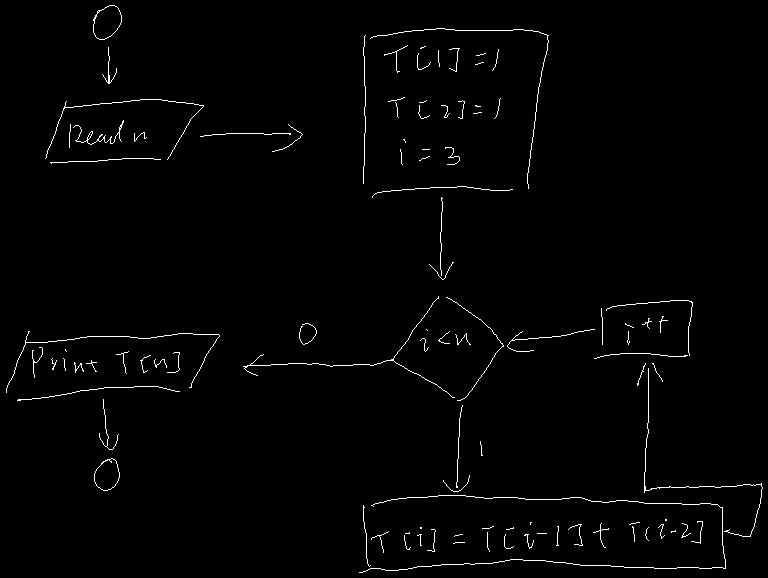arrow: (637, 363, 762, 536), (243, 354, 392, 375), (200, 124, 302, 151), (443, 405, 469, 491), (429, 197, 453, 279), (507, 329, 594, 351), (99, 399, 118, 449), (102, 47, 116, 83)
connection: (93, 5, 121, 39), (94, 458, 119, 490)
data: (6, 331, 219, 400), (45, 99, 203, 163)
decision: (392, 296, 503, 400)
process: (363, 28, 548, 197), (359, 495, 729, 572), (594, 300, 692, 358)
text: (384, 45, 500, 164), (371, 519, 702, 552), (32, 347, 179, 377), (69, 120, 146, 147), (625, 316, 667, 344), (420, 329, 470, 351), (299, 323, 316, 344), (479, 441, 482, 455)
